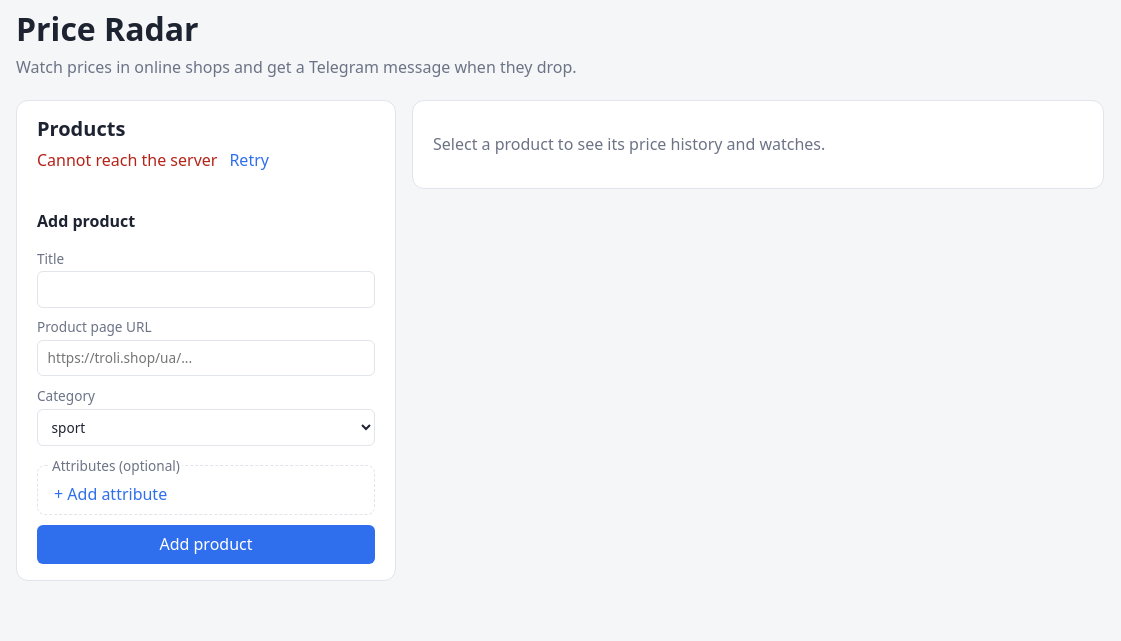
Test case: App › shows a network error with Retry when the BFF is unreachable
The width and height of the screenshot is (1121, 641).
Check: the message shows "Cannot reach the server", box x1=37 y1=149 x2=217 y2=171
Step 1. Click the button "Retry" → [249, 160], box x1=225 y1=149 x2=273 y2=172
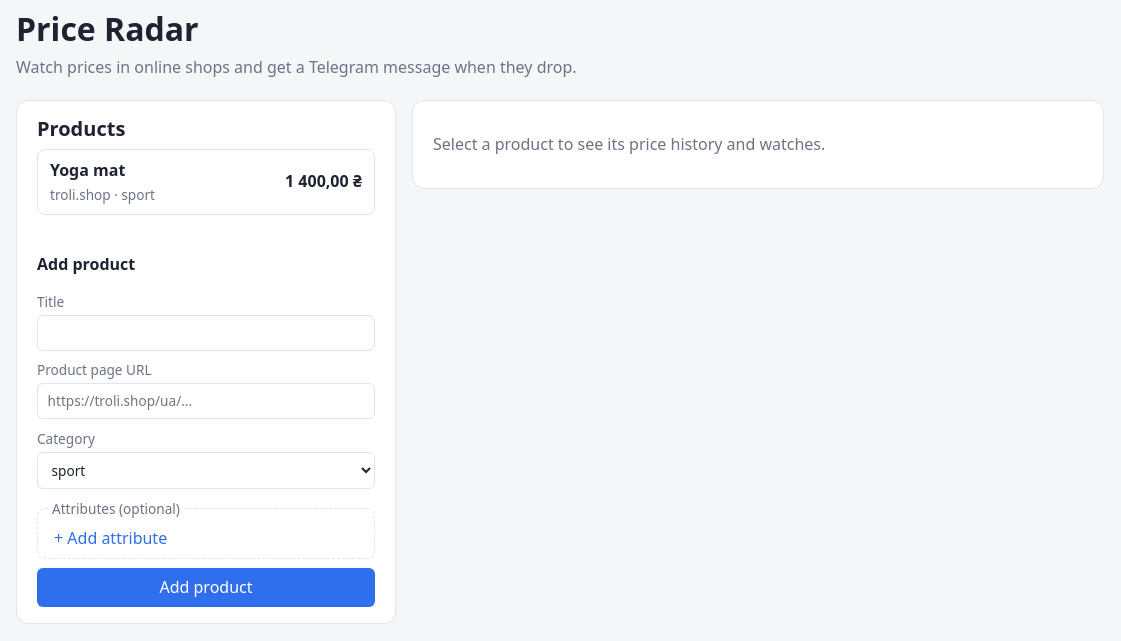
Check: the button "Yoga mat troli.shop · sport 1 400,00 ₴" is shown, box x1=37 y1=149 x2=375 y2=215
Check: the message "Cannot reach the server Retry" is gone
